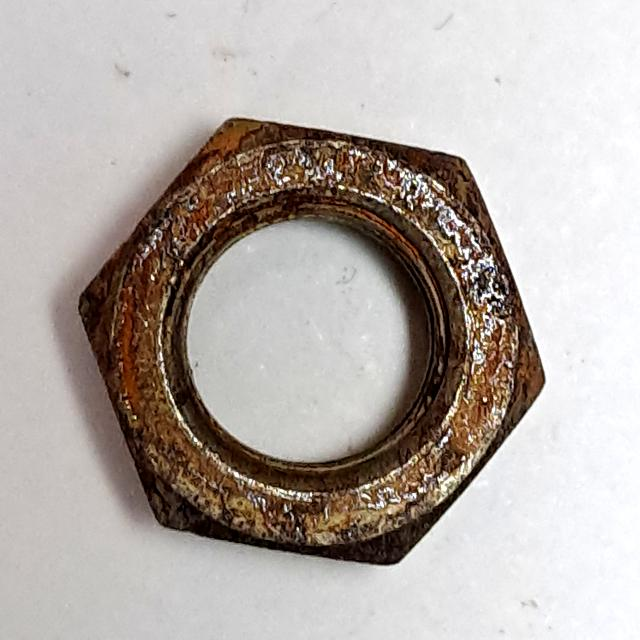Rust: (70, 106, 558, 592)
